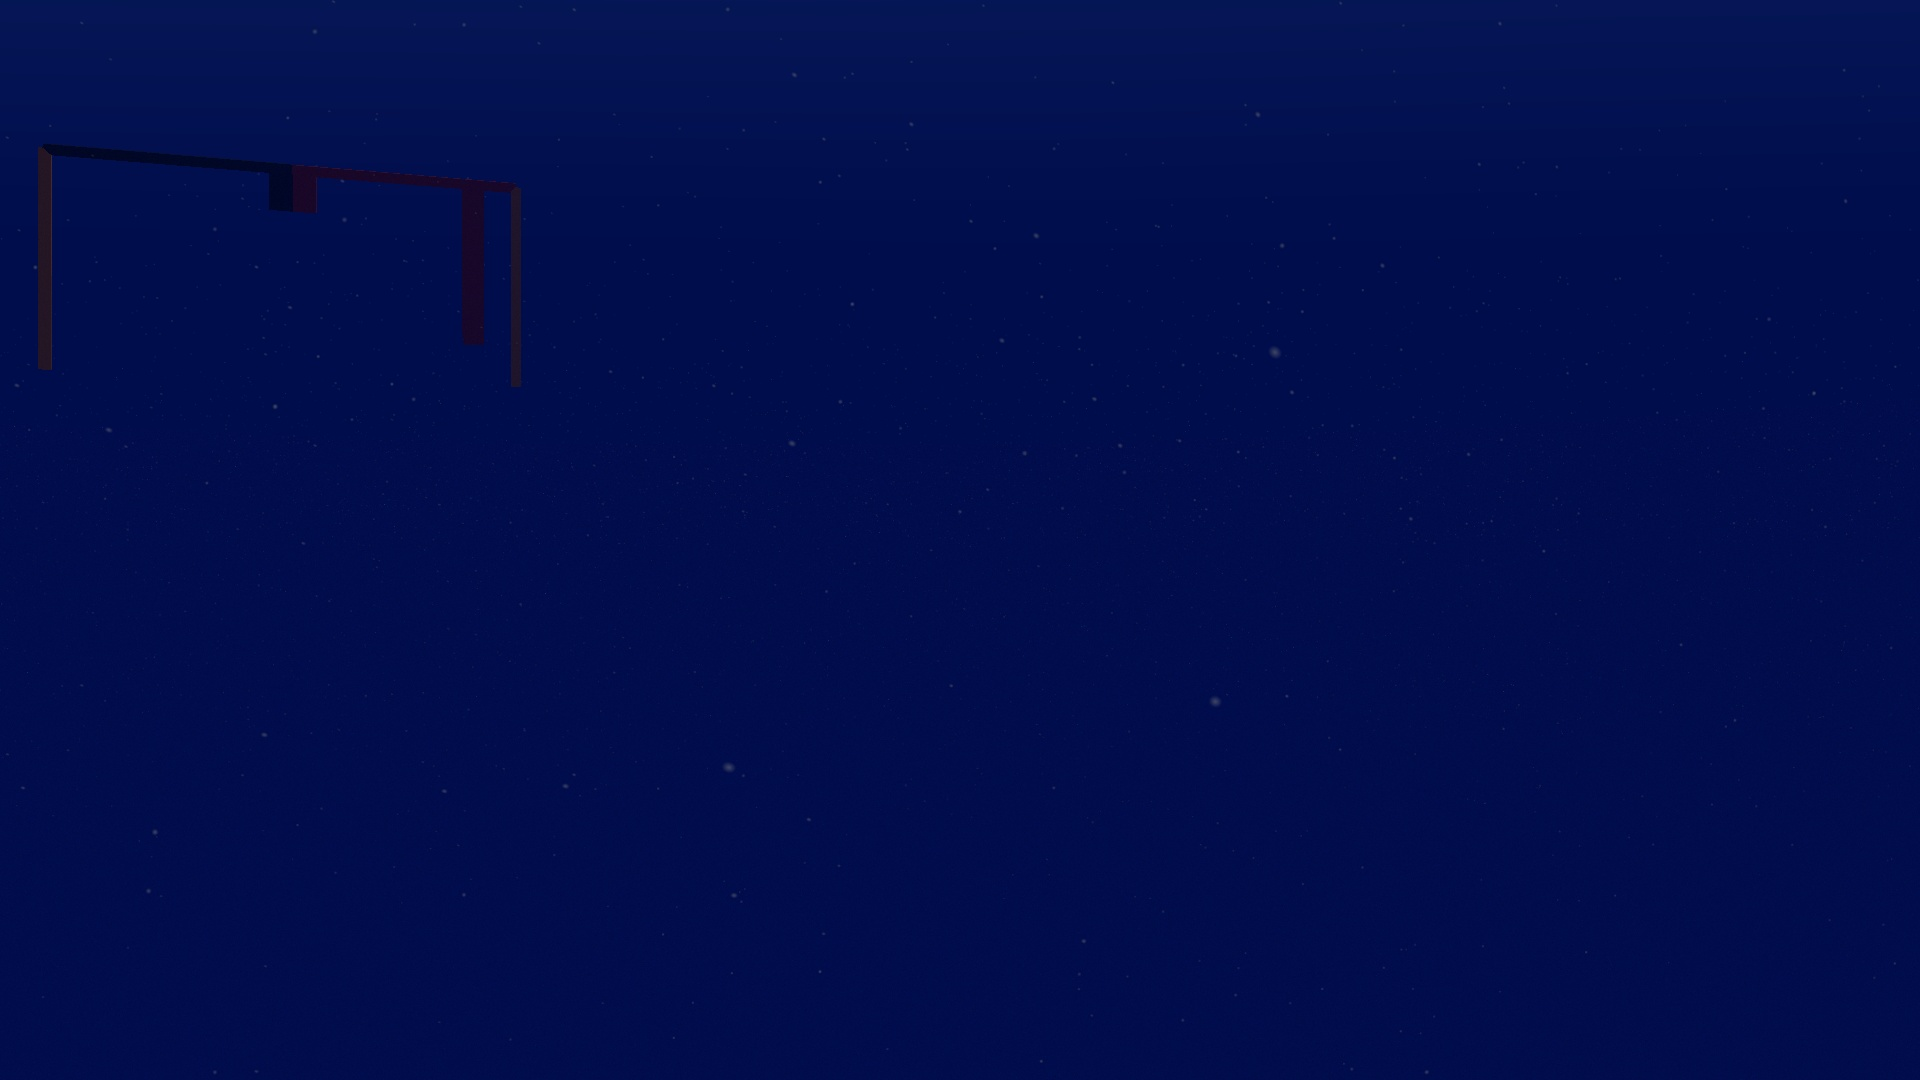Gate: (29, 135, 531, 405)
